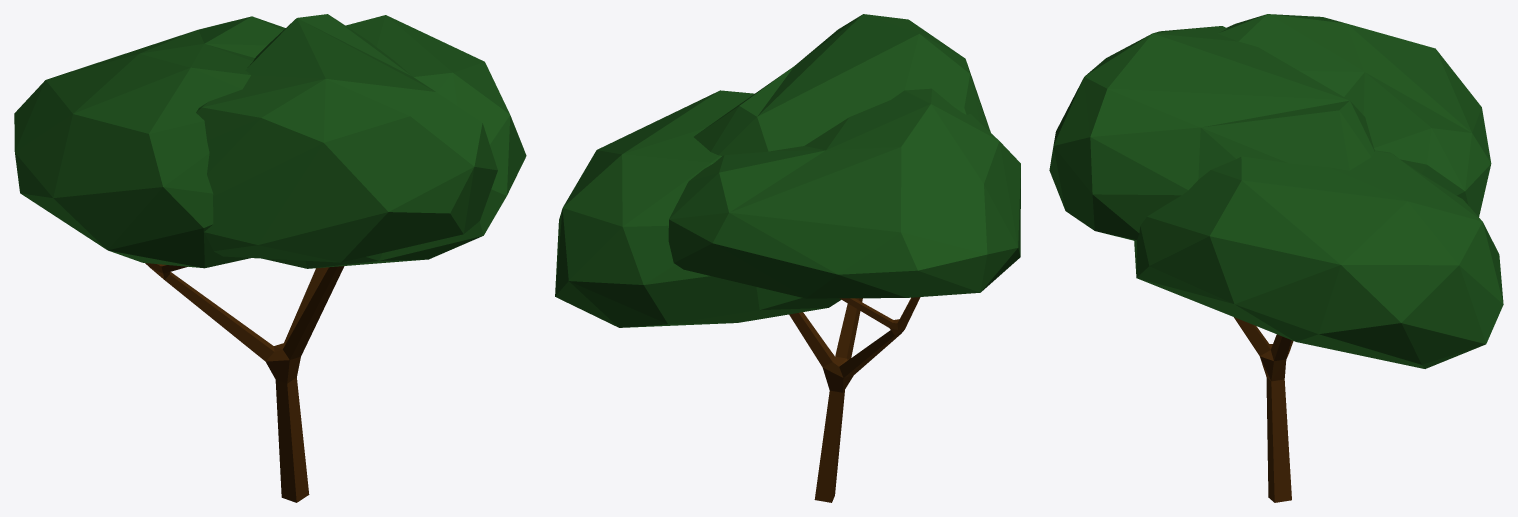
File: tree1.fbx
3 renders of one model, left to right at view 1: azimuth 30°, elevation 25°; view 2: azimuth 150°, elevation 25°; view 3: azimuth 270°, elevation 25°, orthographic. The views are drawn at different scales.
Parts seen in each view (by area): view 1: Tree1; view 2: Tree1; view 3: Tree1.
Boxes of the visible parts, x1,y1,x2,y2 form: Tree1: (14,14,526,502); Tree1: (555,14,1020,502); Tree1: (1049,14,1503,502).
Bounding box in the file's own units: 736 × 726 × 665.
